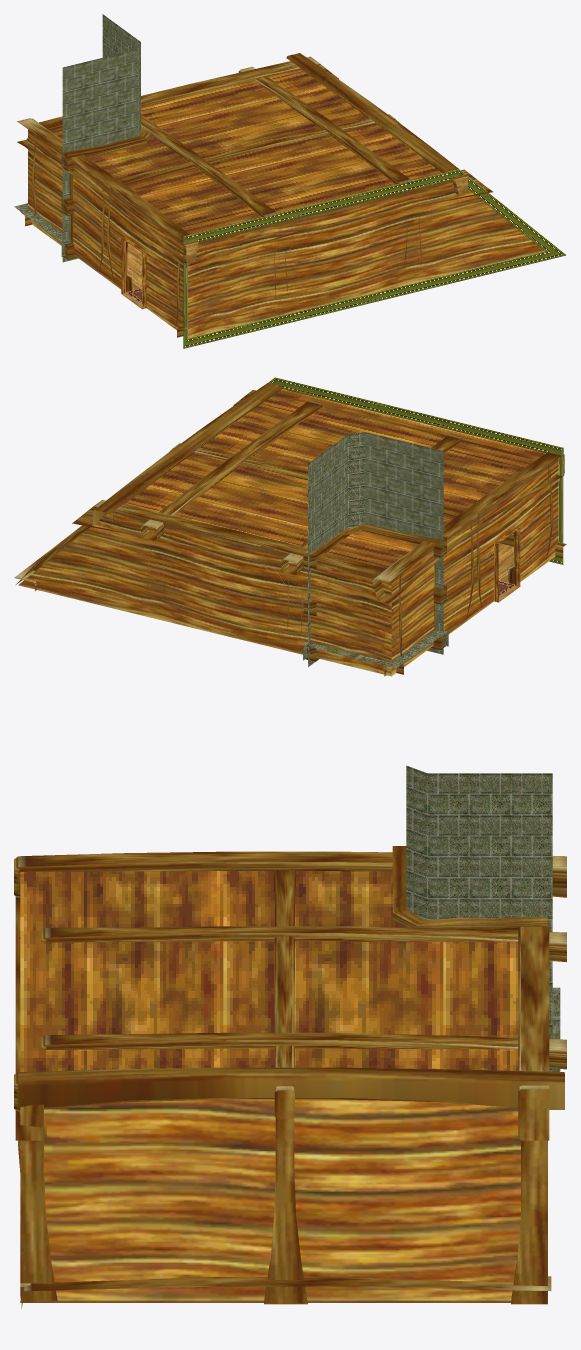
File: room_57.glb
3 views of the same model, one above another, from view 1: azimuth 30°, elevation 25°; view 2: azimuth 150°, elevation 25°; view 3: azimuth 270°, elevation 25° (orthographic). The views are drawn at different scales.
Parts seen in each view (by area): view 1: room_57; view 2: room_57; view 3: room_57.
Boxes of the visible parts, x1,y1,x2,y2 form: room_57: [14, 14, 566, 348]; room_57: [14, 377, 566, 676]; room_57: [14, 765, 566, 1308].
Size of the model in its own units: 2179 by 1047 by 1635.
19 materials, 19 textured.
